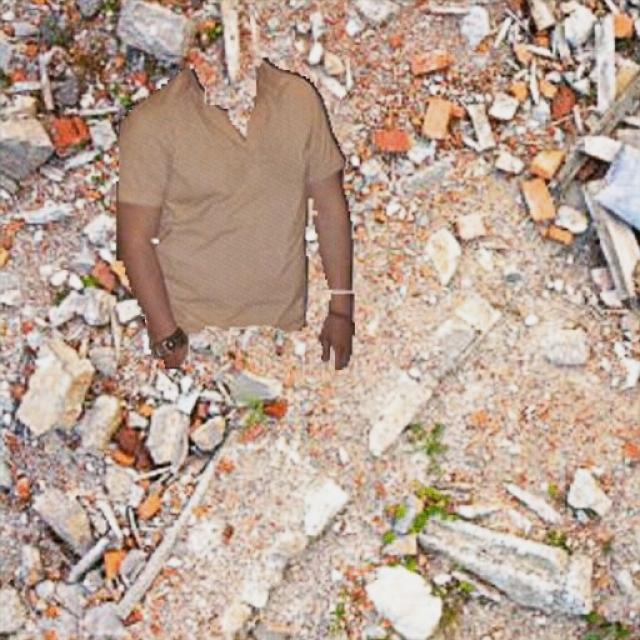Person in Rubble: (116, 58, 354, 368)
